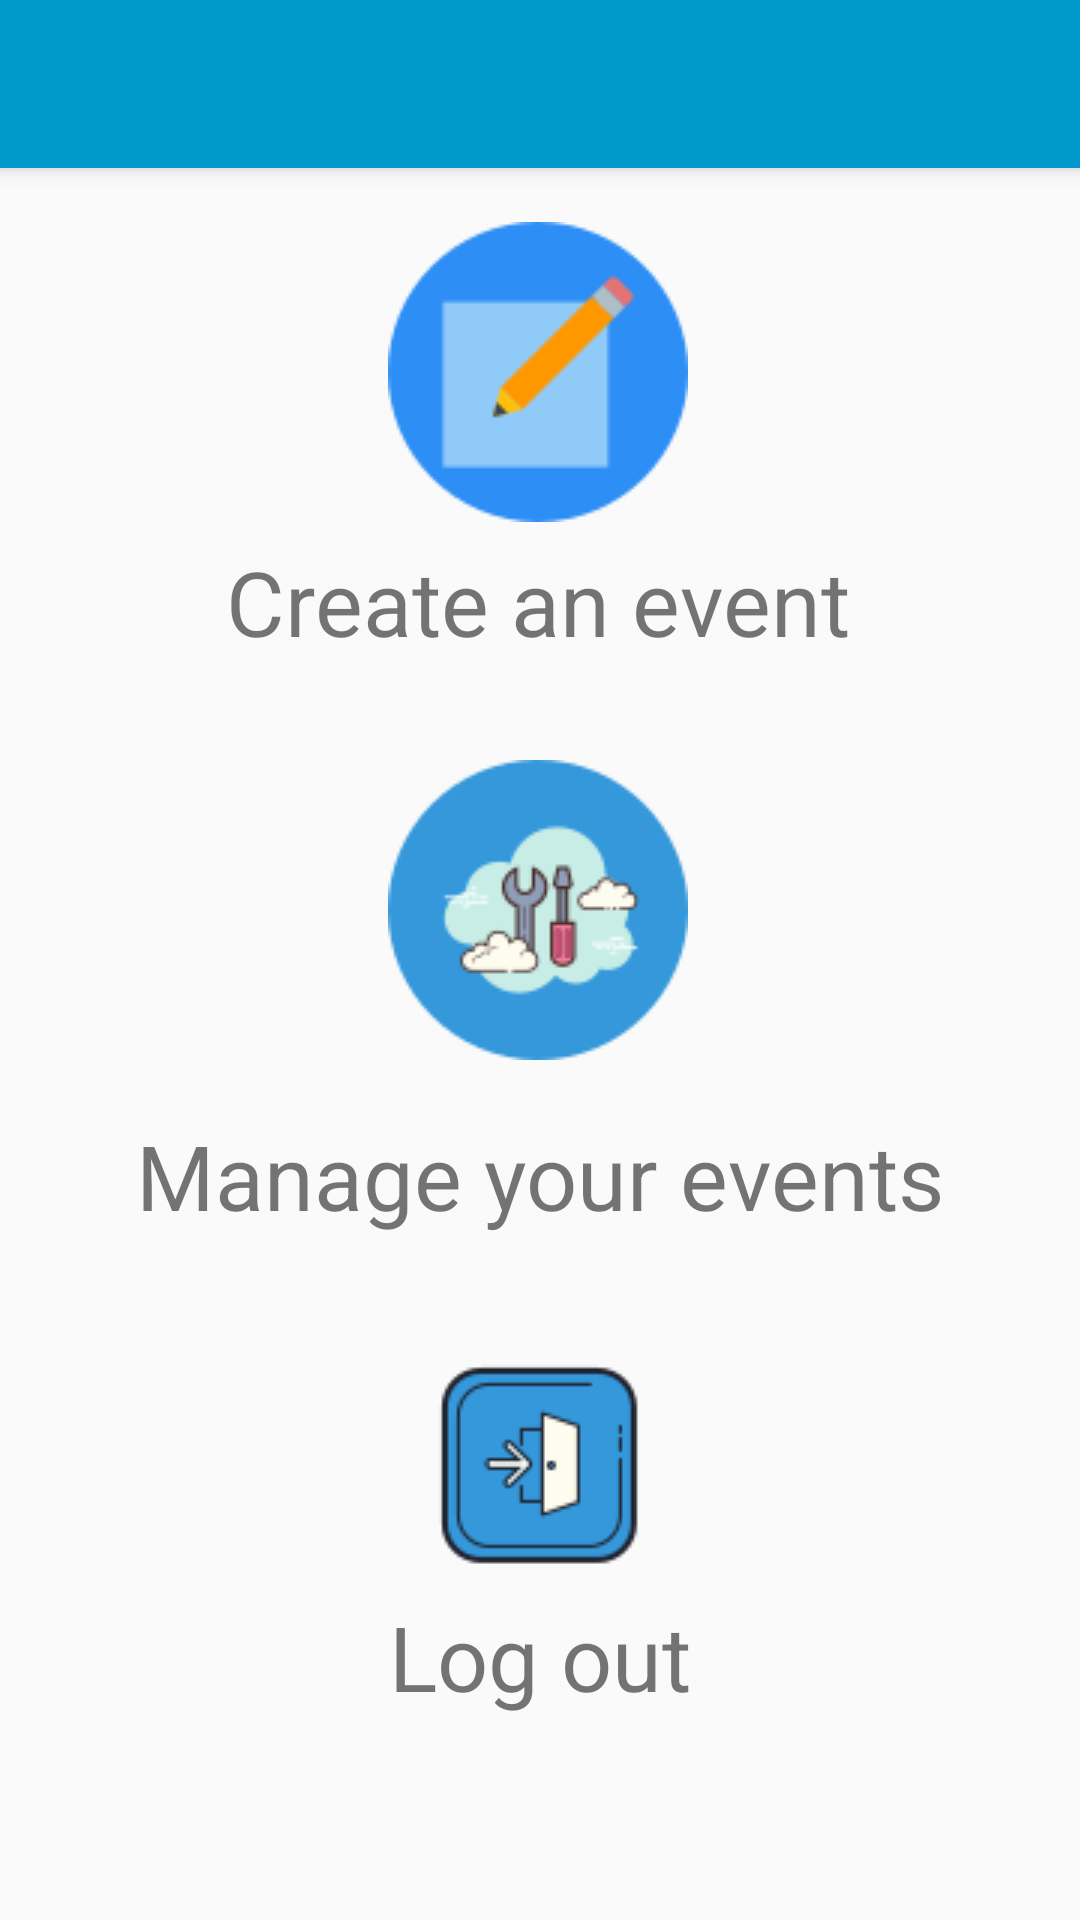

Point at icon controls on the screen. Image size 1080px x 1920px, points as [x,y].
exit: [539,1465]
fadd: [538,372]
